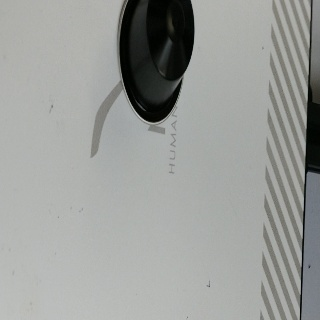capsule_10: (116, 1, 195, 125)
